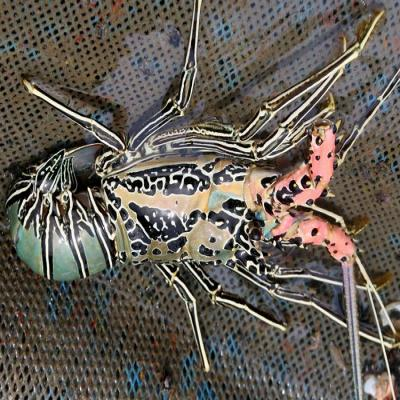lobster: (5, 102, 301, 278)
